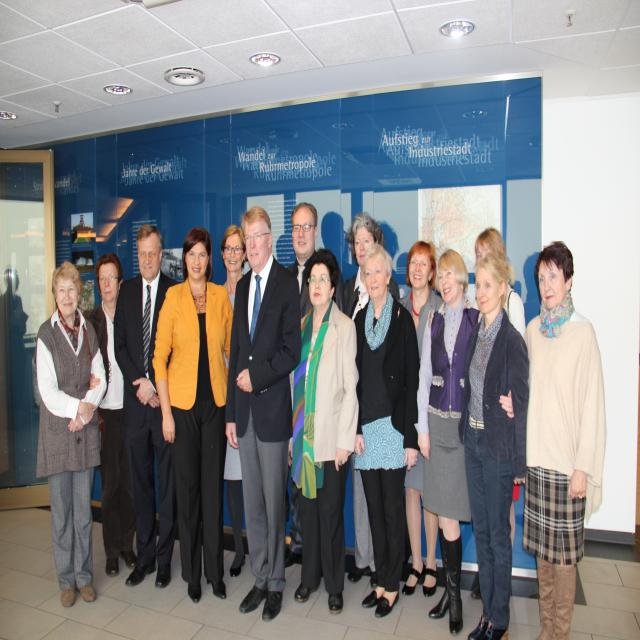body: (414, 247, 520, 638), (512, 236, 609, 640), (150, 224, 241, 605), (223, 203, 304, 625), (454, 252, 531, 640), (283, 244, 360, 618), (31, 260, 109, 611), (338, 210, 404, 591), (353, 243, 419, 618), (113, 221, 179, 588), (283, 201, 346, 569), (80, 249, 142, 580), (395, 238, 446, 598), (274, 214, 415, 284), (220, 225, 247, 578), (466, 225, 528, 346), (0, 266, 32, 475), (508, 251, 546, 328), (170, 257, 183, 281)
